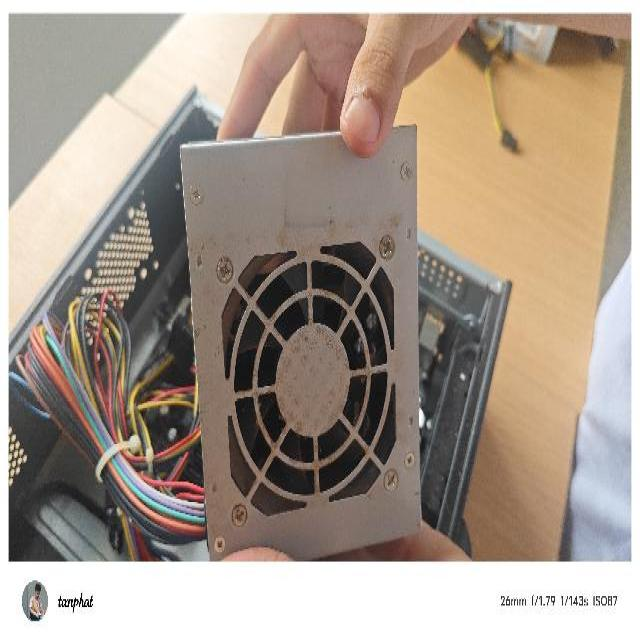PSU: (177, 123, 428, 562)
